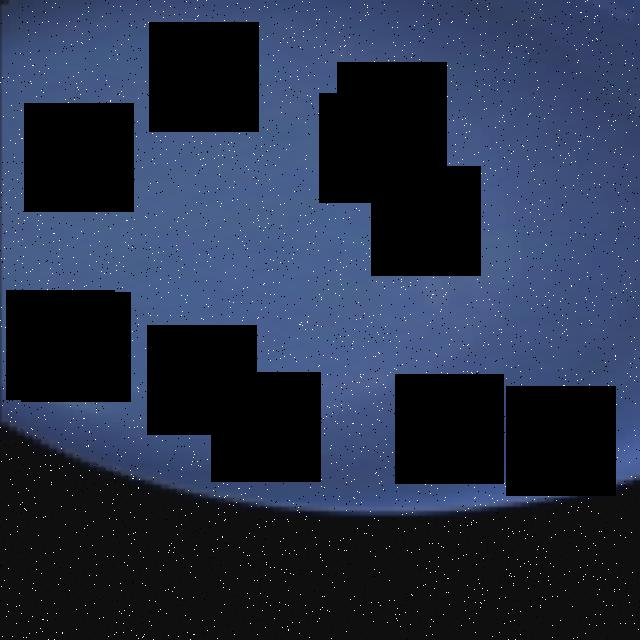Neptune: (0, 0, 640, 516)
